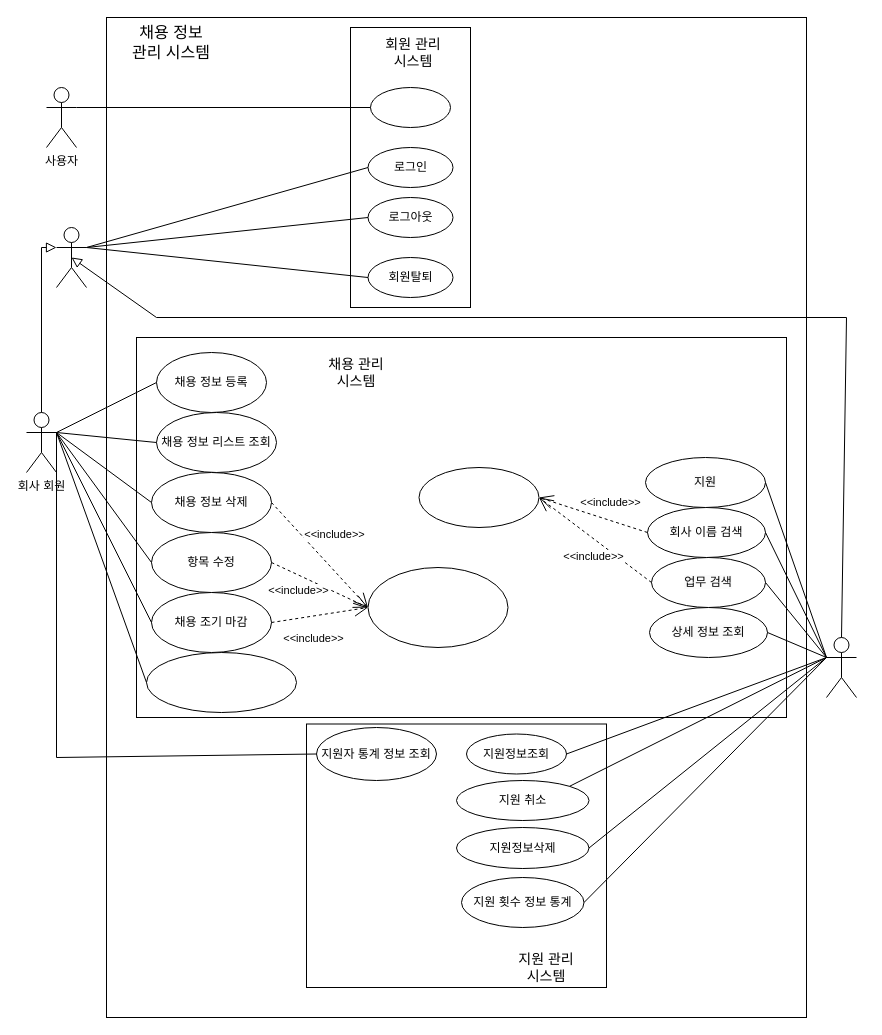
Some shapes in this 882 by 1035 pixel diagram are drawn without their labels. The shapes that lost their labels are listed below. From the top down, each one's centre as x and y in pixels, then its label:
At [410,107]: "회원가입".
At [71,257]: "회원".
At [478,497]: "채용 리스트 조회".
At [437,607]: "특정 채용 정보 상세 조회".
At [221,682]: "마감된 채용 정보 내역 조회".
At [841,667]: "일반 회원".
